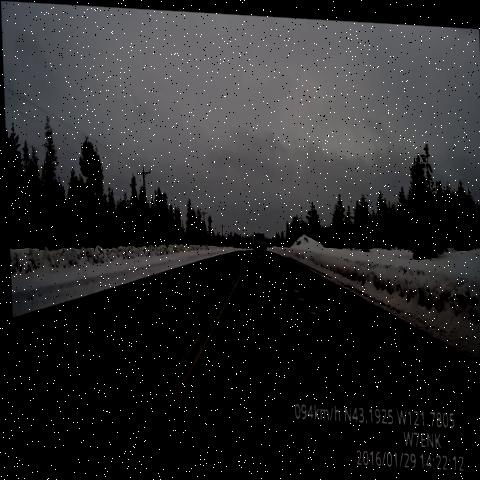pothole: (277, 272, 309, 303), (239, 284, 263, 305), (300, 297, 322, 318), (269, 253, 288, 276)
